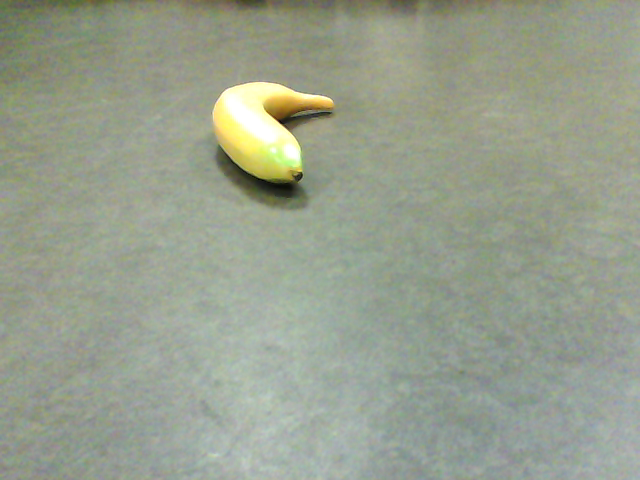banana: (210, 83, 333, 185)
